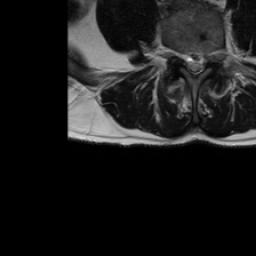CCS_normal: (190, 43, 198, 82)
LFS_normal: (206, 43, 215, 69)
LLS_normal: (198, 43, 206, 76)
RFS_stenosis: (174, 41, 182, 65)
RLS_normal: (182, 43, 190, 75)
